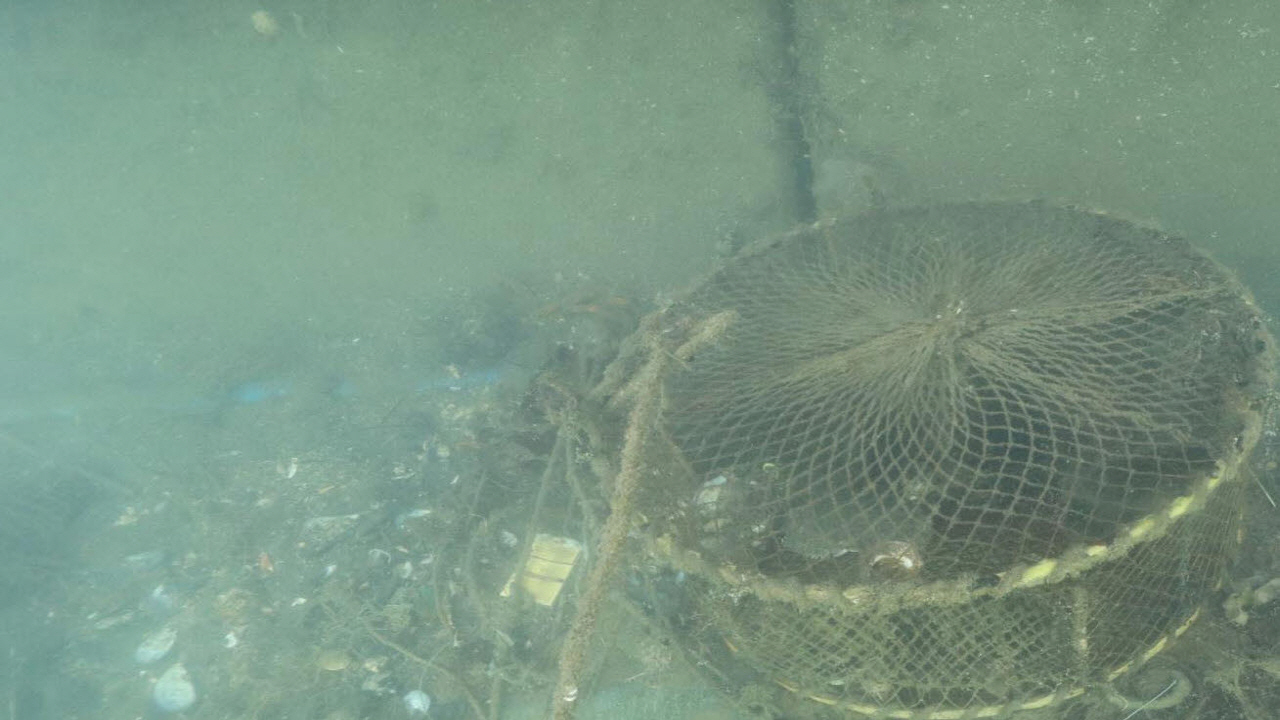circular fish trap: (636, 197, 1272, 720)
